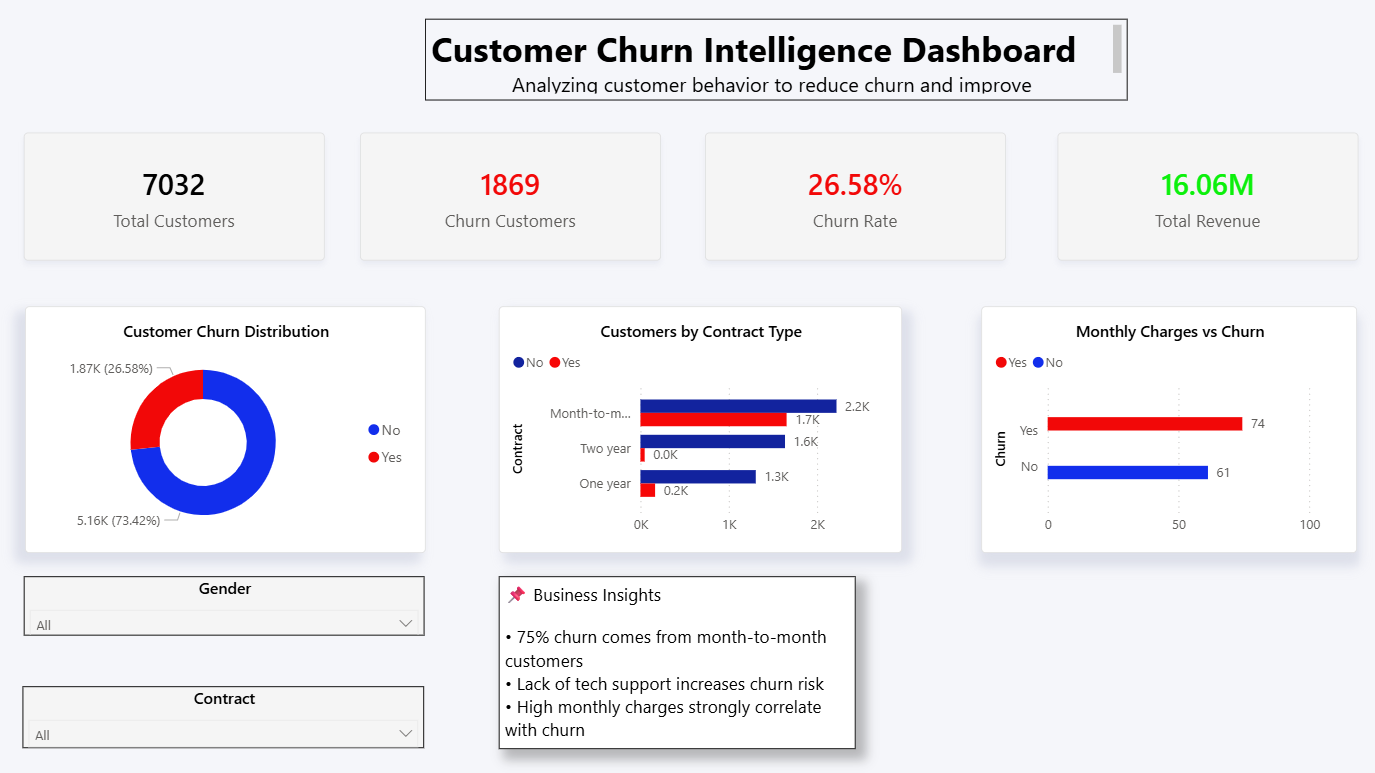

This screenshot's page, from the dashboard's own definition file:
{"tool":"powerbi","page":{"name":"Executive Overview","canvas":[1280,720],"ordinal":0},"visuals":[{"type":"card","fields":{"Values":["Telco_Customer_Churn.Total Customers"]},"box":[21.7,123.1,279.9,119.4],"z":0},{"type":"card","fields":{"Values":["Telco_Customer_Churn.Churn Customers"]},"box":[335.4,123.1,279.9,119.4],"z":1000},{"type":"card","fields":{"Values":["Telco_Customer_Churn.Churn Rate"]},"box":[656.3,123.1,279.9,119.4],"z":2000},{"type":"card","fields":{"Values":["Telco_Customer_Churn.Total Revenue"]},"box":[983.2,123.1,279.9,119.4],"z":3000},{"type":"donutChart","title":"Customer Churn Distribution","fields":{"Category":["Telco_Customer_Churn.Churn"],"Y":["CountNonNull(Telco_Customer_Churn.Customer ID)"]},"box":[22.9,284.7,372.8,229.2],"z":4000},{"type":"clusteredBarChart","title":"Customers by Contract Type","fields":{"Category":["Telco_Customer_Churn.Contract"],"Y":["CountNonNull(Telco_Customer_Churn.Customer ID)"],"Series":["Telco_Customer_Churn.Churn"]},"box":[464.5,284.7,375.2,229.2],"z":5000},{"type":"slicer","title":"Gender","fields":{"Values":["Telco_Customer_Churn.gender"]},"box":[21.7,535.7,372.8,55.5],"z":6000},{"type":"slicer","title":"Contract","fields":{"Values":["Telco_Customer_Churn.Contract"]},"box":[20.5,638.2,374,57.9],"z":7000},{"type":"textbox","box":[395.7,16.9,653.9,76],"z":8000},{"type":"clusteredBarChart","title":"Monthly Charges vs Churn","fields":{"Series":["Telco_Customer_Churn.Churn"],"Category":["Telco_Customer_Churn.Churn"],"Y":["Avg(Telco_Customer_Churn.MonthlyCharges)"]},"box":[913.3,284.7,349.9,229.2],"z":9000},{"type":"textbox","box":[464.5,535.7,331.8,160.5],"z":10000}]}

Visuals, with their boxes in screenshot pixels (x1, y1, x2, y2), scaled from the page's 1280x720 canvas onto the 1375x773 screenshot:
card - Telco_Customer_Churn.Total Customers: l=23, t=132, r=324, b=260
card - Telco_Customer_Churn.Churn Customers: l=360, t=132, r=661, b=260
card - Telco_Customer_Churn.Churn Rate: l=705, t=132, r=1006, b=260
card - Telco_Customer_Churn.Total Revenue: l=1056, t=132, r=1357, b=260
"Customer Churn Distribution" donutChart: l=25, t=306, r=425, b=552
"Customers by Contract Type" clusteredBarChart: l=499, t=306, r=902, b=552
"Gender" slicer: l=23, t=575, r=424, b=635
"Contract" slicer: l=22, t=685, r=424, b=747
textbox: l=425, t=18, r=1128, b=100
"Monthly Charges vs Churn" clusteredBarChart: l=981, t=306, r=1357, b=552
textbox: l=499, t=575, r=855, b=747
